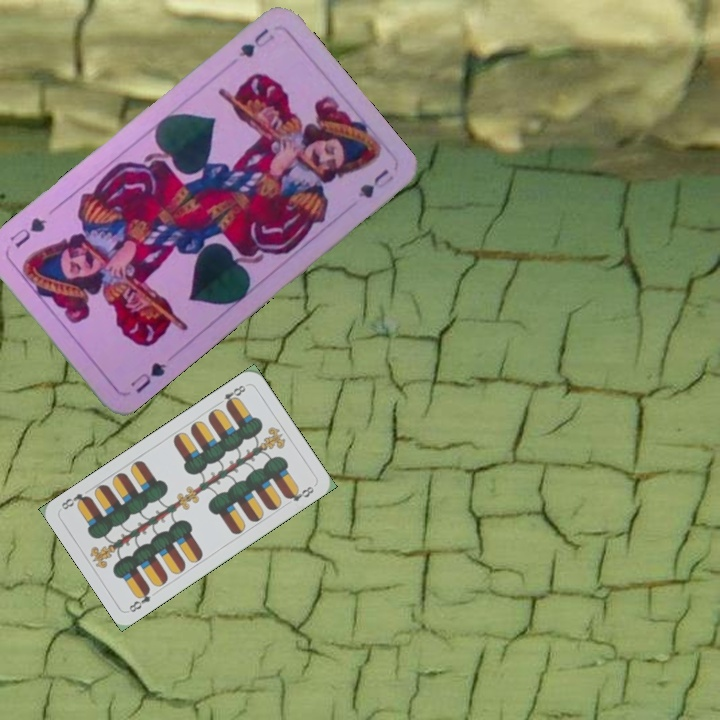E8: (213, 381, 248, 410), (125, 584, 153, 615)
GU: (126, 358, 169, 396), (234, 23, 278, 60)
